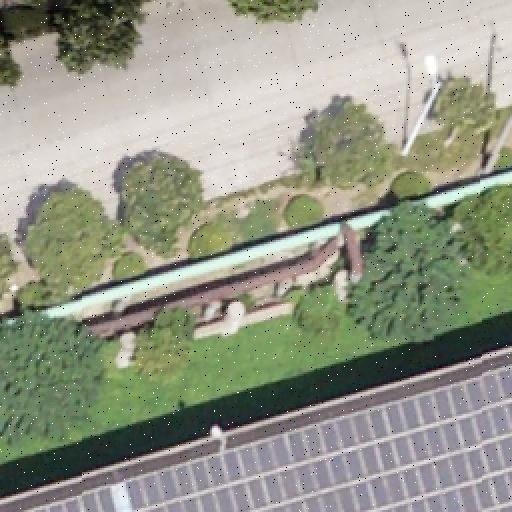solar-panel: (128, 368, 512, 512), (31, 486, 121, 512)
